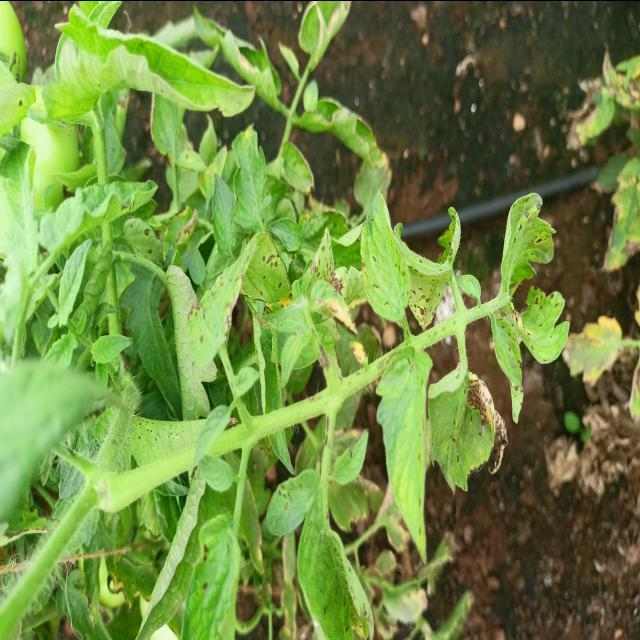Tomato mosaic virus leaf: (495, 188, 571, 426), (182, 223, 295, 369), (427, 364, 511, 498), (400, 202, 463, 332), (301, 224, 368, 313), (132, 406, 198, 466), (120, 206, 170, 268)
